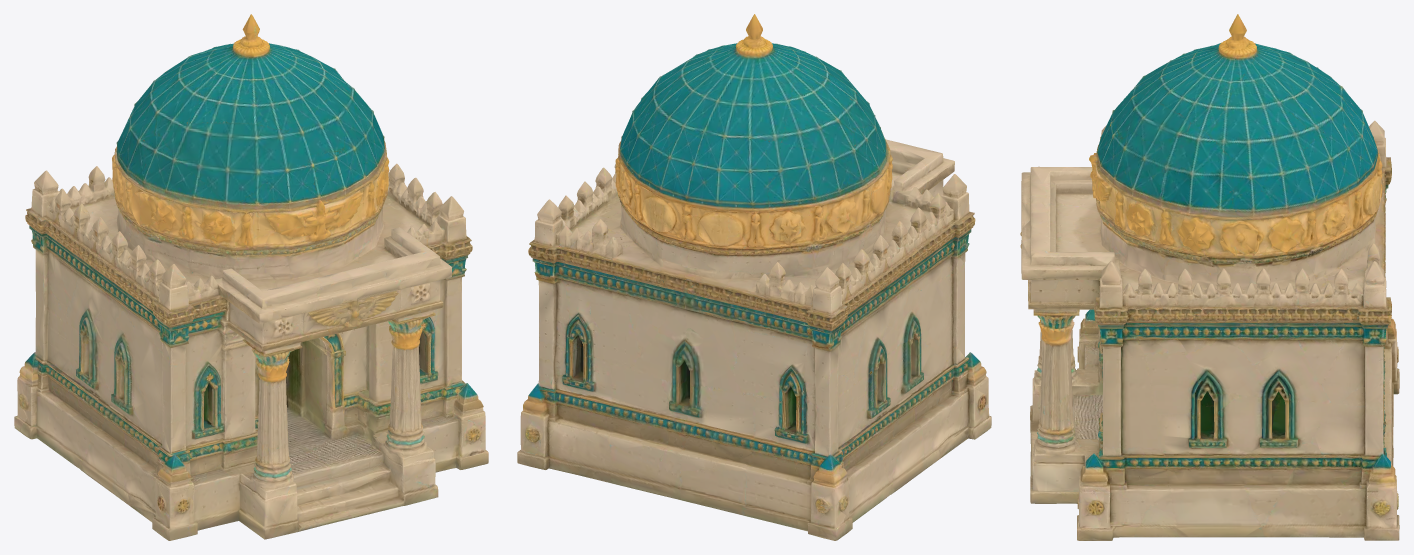
Rendered from CommandHall.glb.
3 views of the same model, side by side, from view 1: azimuth 30°, elevation 25°; view 2: azimuth 150°, elevation 25°; view 3: azimuth 270°, elevation 25° (orthographic). The views are drawn at different scales.
Size of the model in its own units: 1.47 by 1.9 by 1.46.
1 material, 1 textured.
